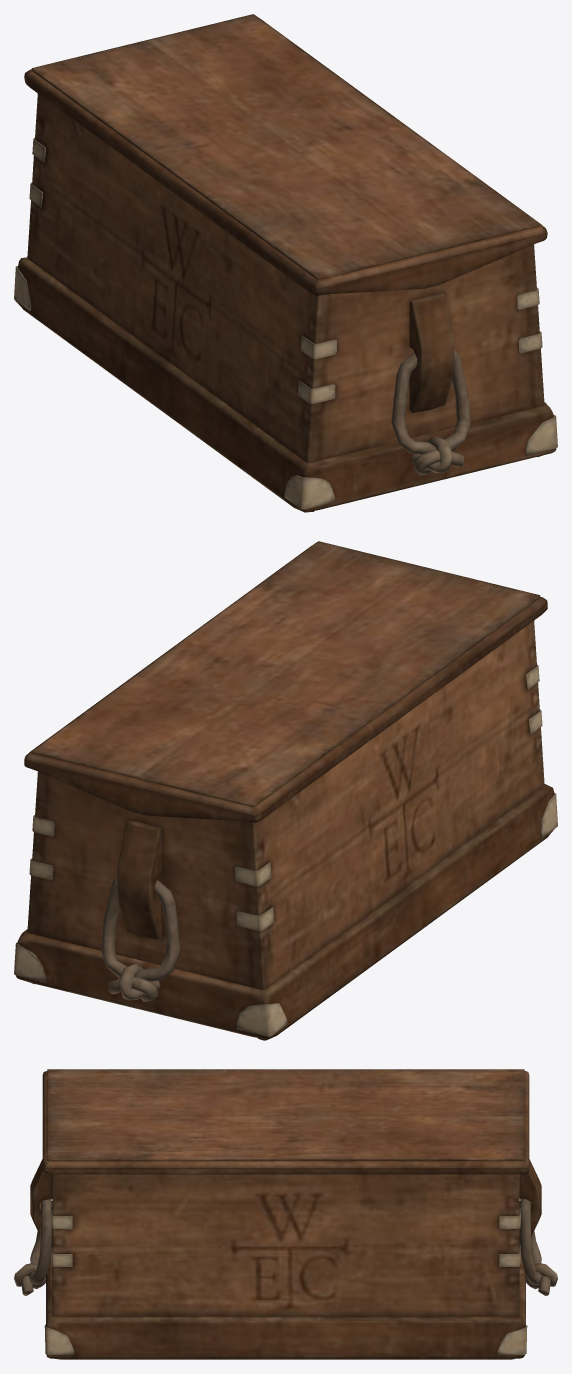
3 views of the same model, one above another, from view 1: azimuth 30°, elevation 25°; view 2: azimuth 150°, elevation 25°; view 3: azimuth 270°, elevation 25° (orthographic). The views are drawn at different scales.
Parts seen in each view (by area): view 1: wooden_crate_02_lod1; view 2: wooden_crate_02_lod1; view 3: wooden_crate_02_lod1.
Boxes of the visible parts, bbox=[...] form: wooden_crate_02_lod1: bbox=[14, 14, 557, 512]; wooden_crate_02_lod1: bbox=[14, 541, 557, 1040]; wooden_crate_02_lod1: bbox=[14, 1069, 557, 1359].
Bounding box in the file's own units: 0.5291 × 0.464 × 1.16.
Materials: 1 (1 with a texture image).
